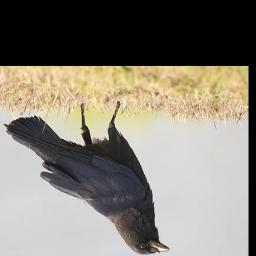Crow: (4, 100, 172, 256)
